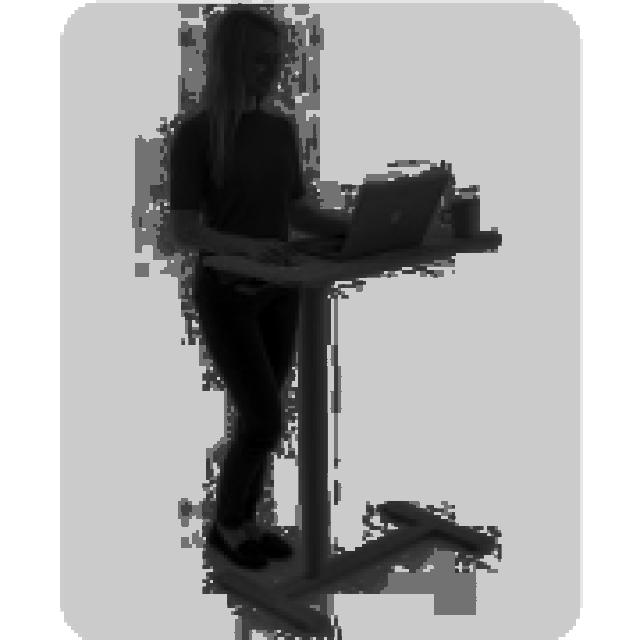table: (199, 224, 498, 633)
